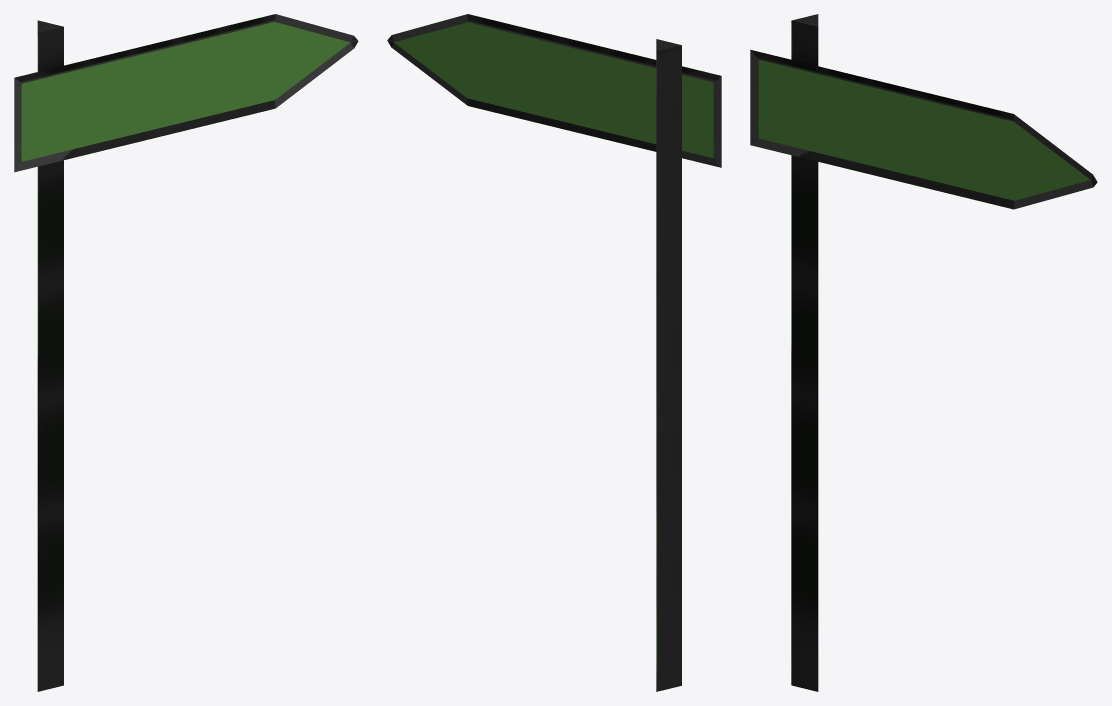
The model's file is signs.glb.
3 renders of one model, left to right at view 1: azimuth 30°, elevation 25°; view 2: azimuth 150°, elevation 25°; view 3: azimuth 330°, elevation 25°, orthographic. The views are drawn at different scales.
Visible parts, largest first — view 1: panel, cylin; view 2: panel, cylin; view 3: panel, cylin.
Boxes of the visible parts, <box> form: panel: <box>14,14,358,172</box>; cylin: <box>37,20,63,691</box>; panel: <box>387,14,721,167</box>; cylin: <box>656,39,681,691</box>; panel: <box>750,49,1097,209</box>; cylin: <box>791,14,818,691</box>.
Bounding box in the file's own units: 2.65 × 4.85 × 0.2947.
2 materials, 2 textured.
